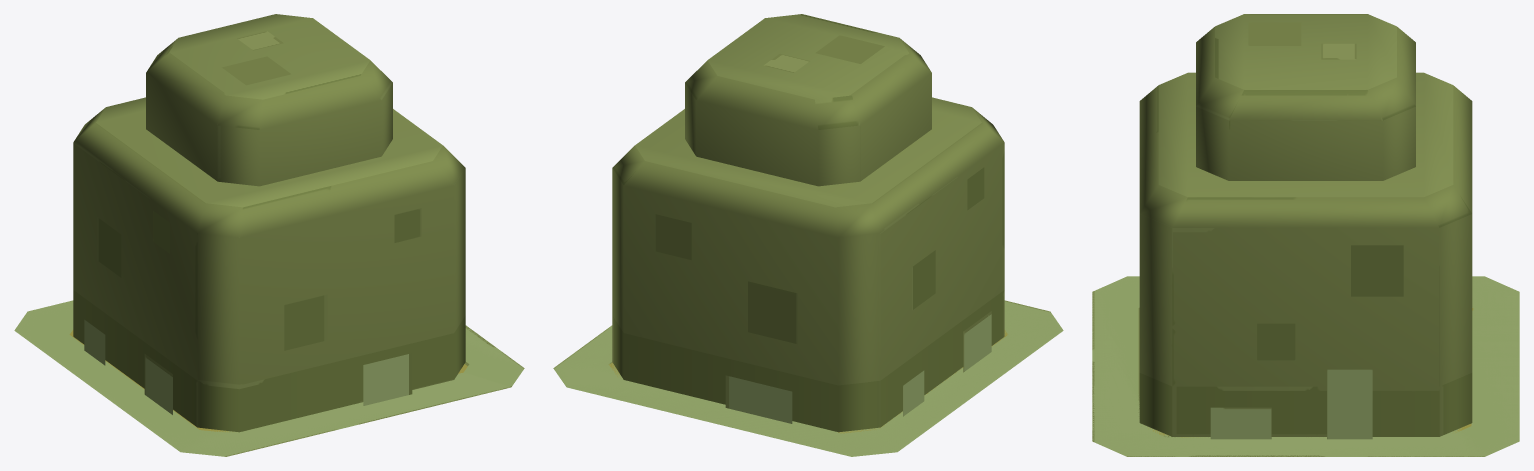
Rendered from B_water2_rock00.fbx.
The picture shows the model from 3 angles, left to right: view 1: azimuth 30°, elevation 25°; view 2: azimuth 150°, elevation 25°; view 3: azimuth 270°, elevation 25°; orthographic projection. The views are drawn at different scales.
Parts seen in each view (by area): view 1: model 1, model; view 2: model 1, model; view 3: model 1, model.
Boxes of the visible parts, x1,y1,x2,y2 form: model 1: (14,14,524,456); model: (15,300,524,456); model 1: (553,14,1062,456); model: (553,300,1063,456); model 1: (1092,14,1519,456); model: (1092,276,1519,456).
Bounding box in the file's own units: 1.92 × 1.6 × 1.92.
1 material, 1 textured.
